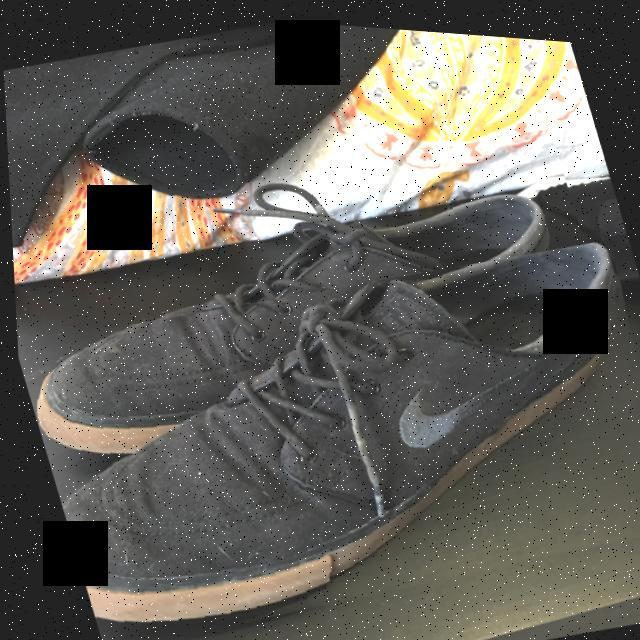shoe: (8, 195, 640, 640), (4, 88, 625, 512)
